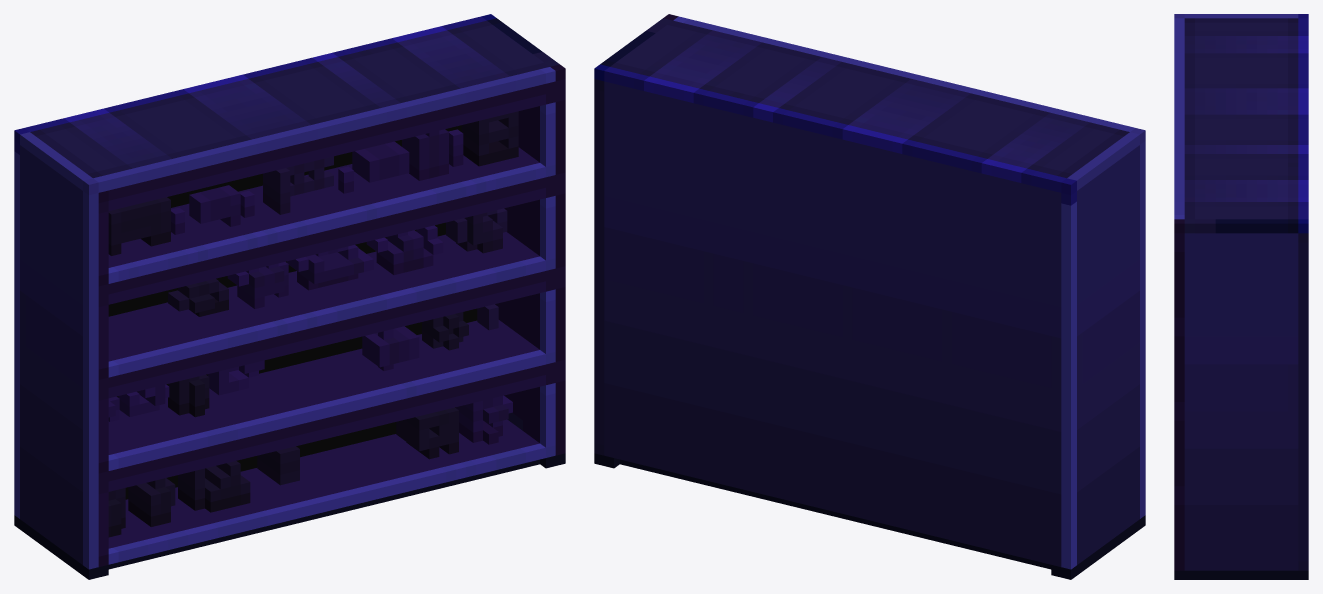
The model's file is BookshelfTinker.obj.
The picture shows the model from 3 angles, left to right: view 1: azimuth 30°, elevation 25°; view 2: azimuth 150°, elevation 25°; view 3: azimuth 270°, elevation 25°; orthographic projection. The views are drawn at different scales.
Size of the model in its own units: 4.8 by 3.8 by 1.3.
